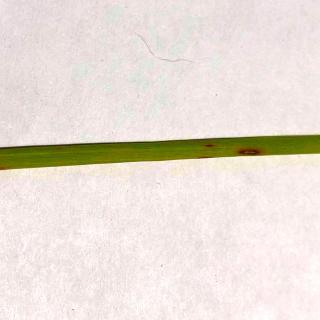Blast: (237, 141, 263, 163)
